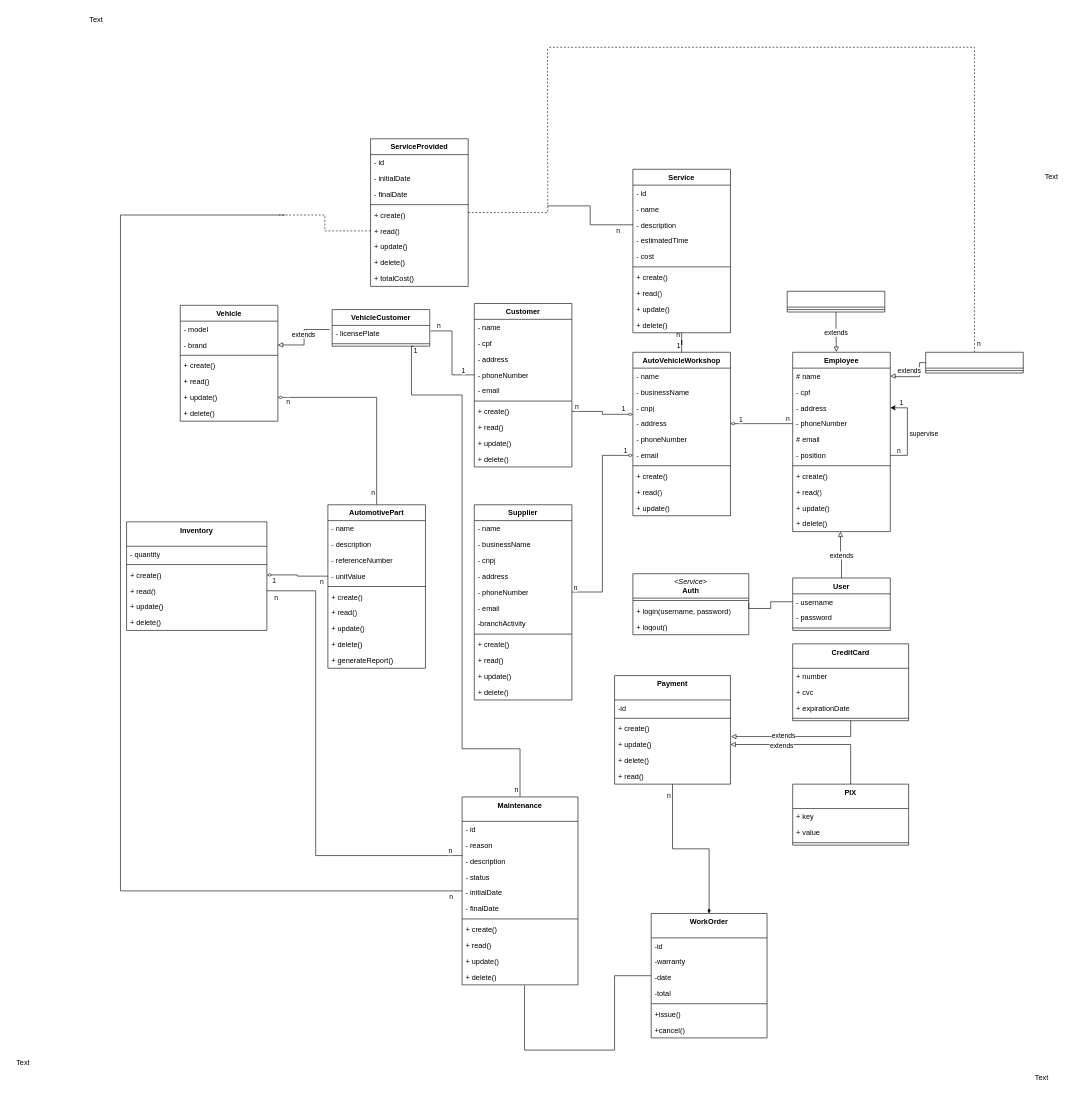
The diagram is 1074 pixels wide and 1097 high, and some of its shapes have lost their labels. The shapes that lost their labels are listed below. From the top down, each one's centre as x and y in pixels, then its label:
the point at 836,301: attendant
the point at 974,362: Mechanic
